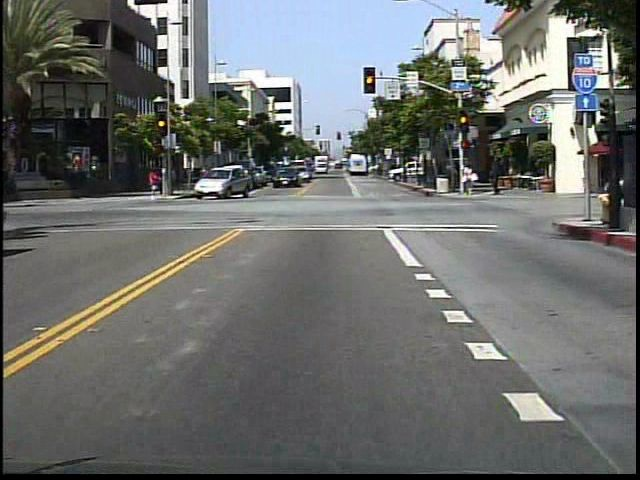person: (458, 157, 479, 198), (488, 159, 503, 198), (150, 167, 165, 197)
